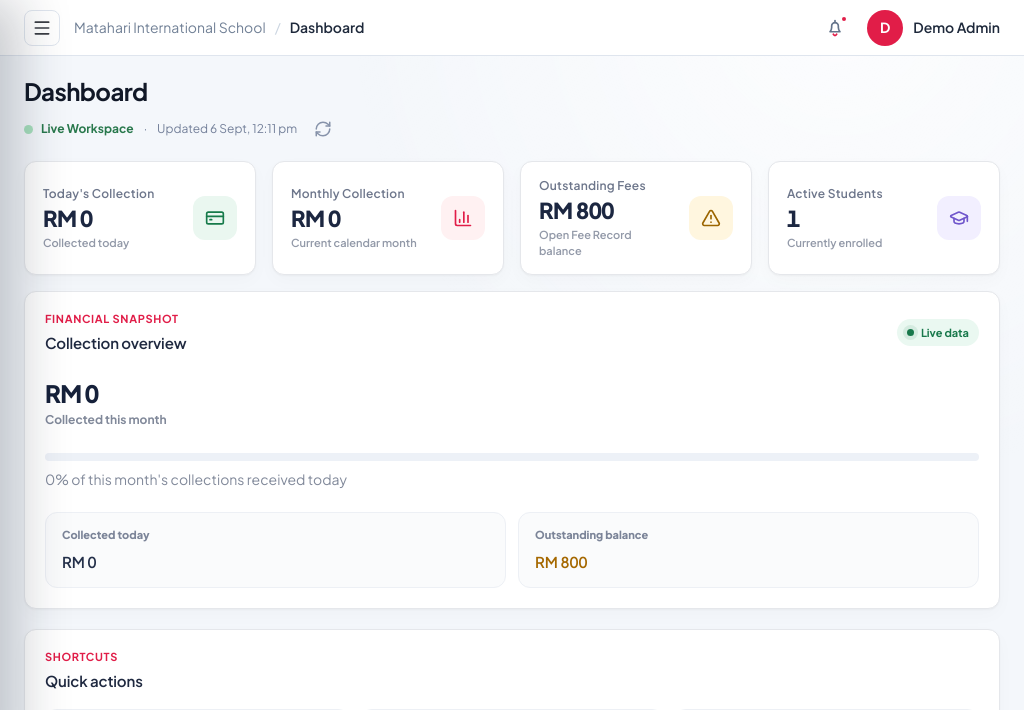
Test: demo shell › shows the Fee Record outstanding total and opens Fee Record from the metric
The image size is (1024, 710).
Expected: the element named "Dashboard metrics" is shown, x1=24 y1=161 x2=1000 y2=276
Expected: the text "RM 800" next to "Active Students" is shown, x1=539 y1=196 x2=614 y2=224
Click the button "Open Fee Record" at (636, 218), box x1=520 y1=161 x2=752 y2=276
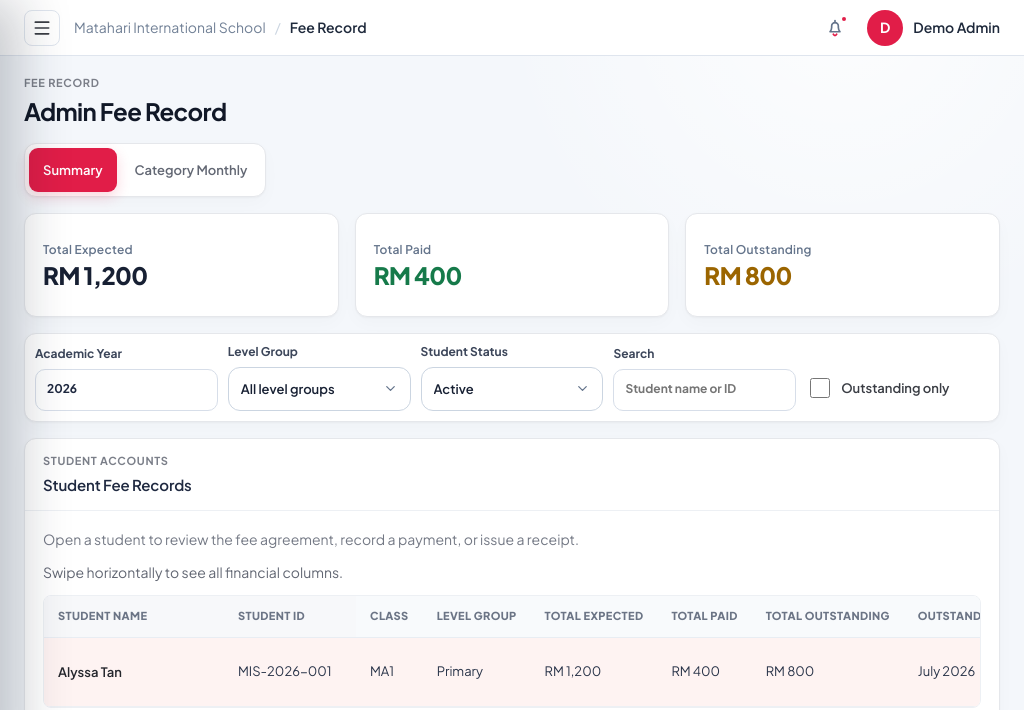
Now the heading "Admin Fee Record" is shown, box x1=24 y1=96 x2=226 y2=127
